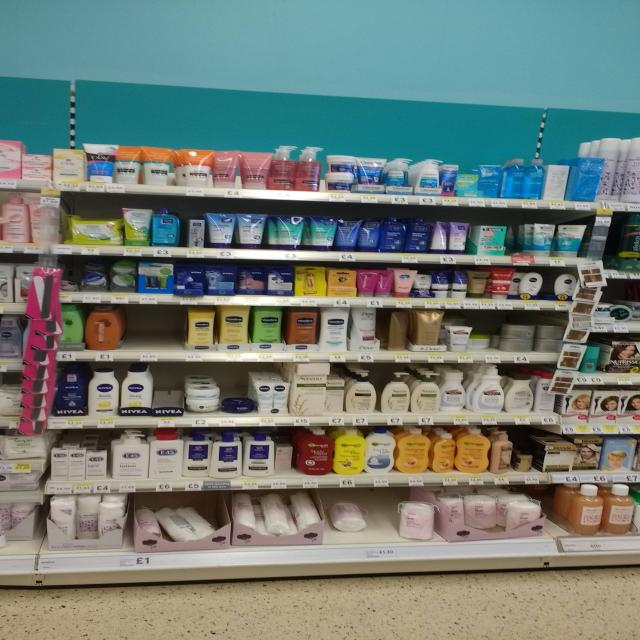void: (358, 490, 390, 563), (149, 306, 182, 365), (116, 304, 144, 363)
